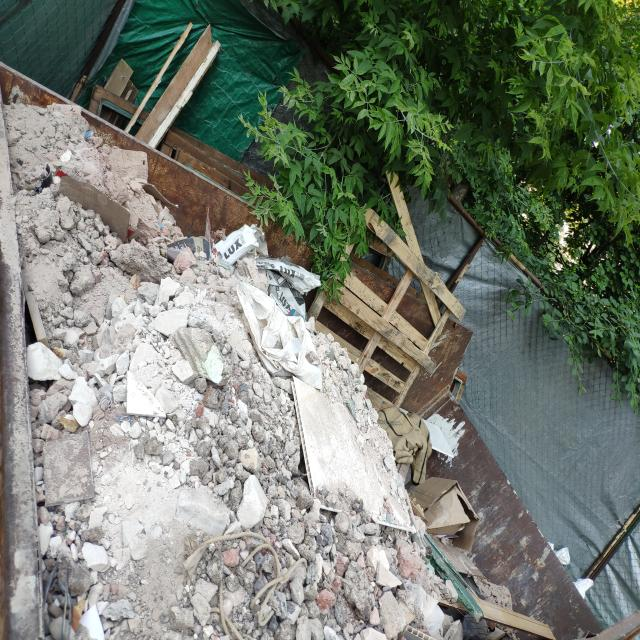entulho: (365, 470, 595, 640), (339, 235, 480, 439), (78, 10, 224, 158), (286, 374, 414, 538), (221, 240, 329, 394), (53, 172, 134, 252)
